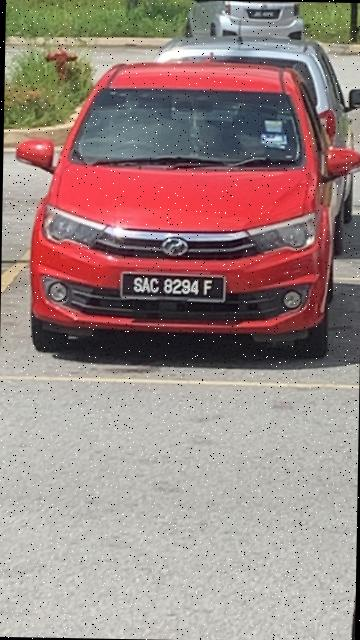License_Plate: (123, 274, 226, 304)
car: (5, 59, 360, 370)
